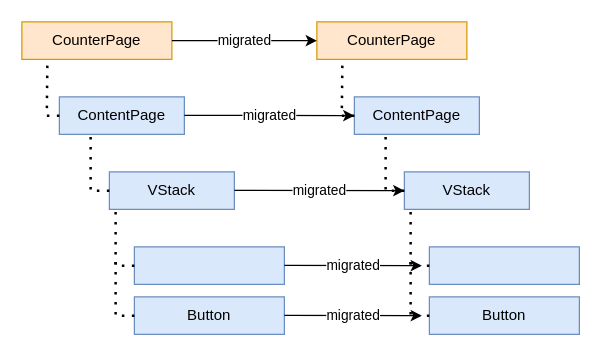
This 601x356 diagram has some shape labels left out. The shapes that lost their labels are listed below. From the top down, each one's centre as x and y in pixels, then its label:
[208,265]: Label("Counter 0")
[503,265]: Label("Counter 1")
